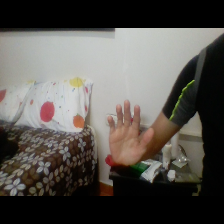left: (97, 97, 161, 173)
